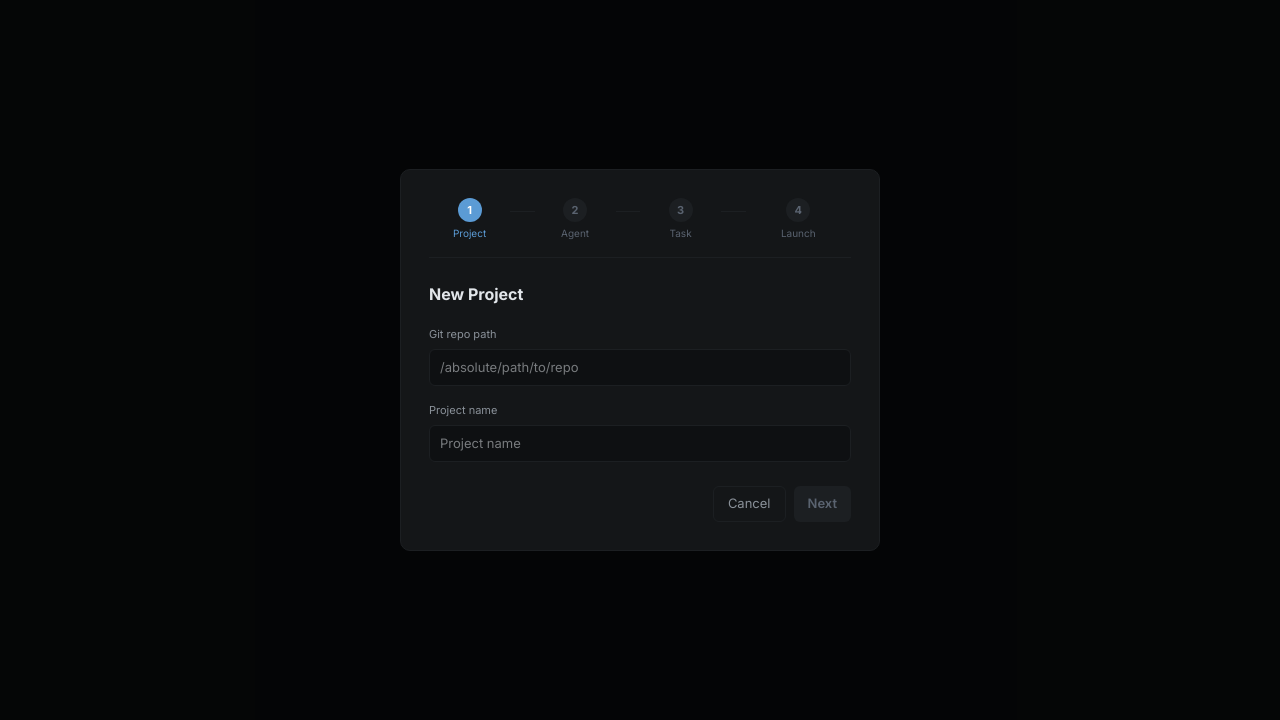
Test: NewProjectWizard › Set up later skips agent and advances to Step 4 (Launch)
The width and height of the screenshot is (1280, 720).
Type "/home/user/my-repo" into the field with placeholder "/absolute/path/to/repo" at (640, 368), box [429,349,851,386]
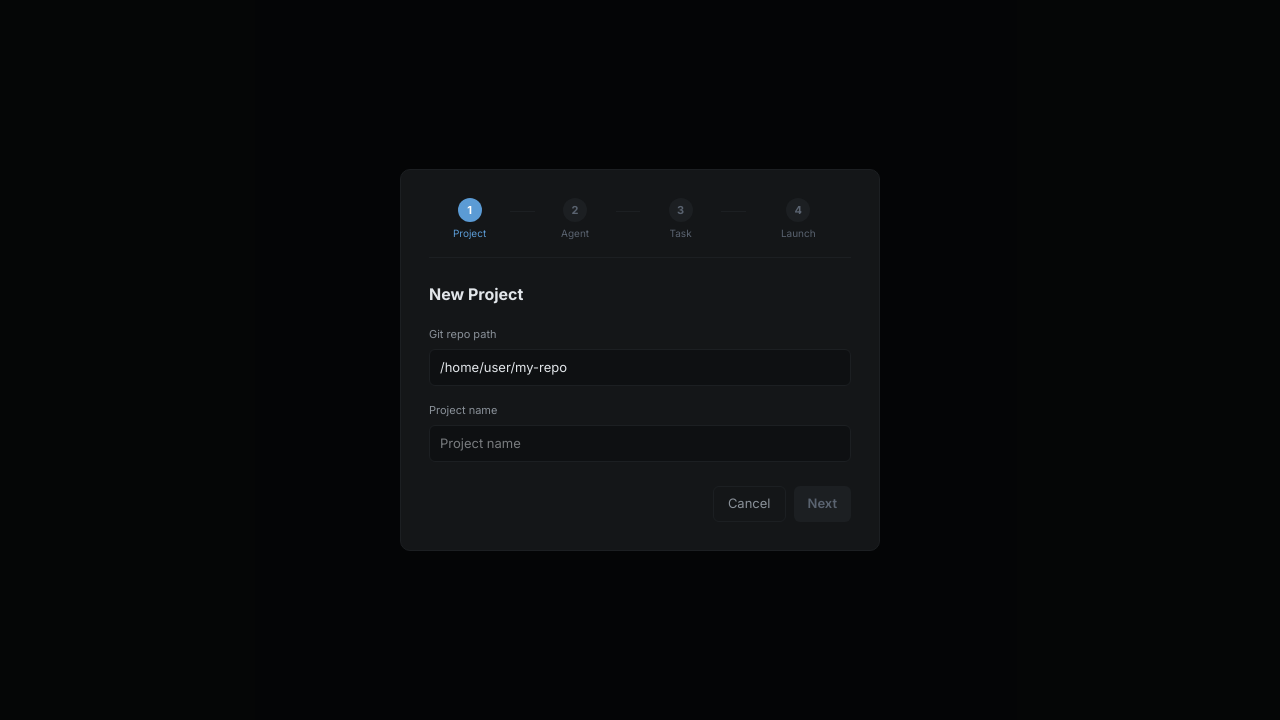
Leave the field with placeholder "/absolute/path/to/repo", box [429,349,851,386]
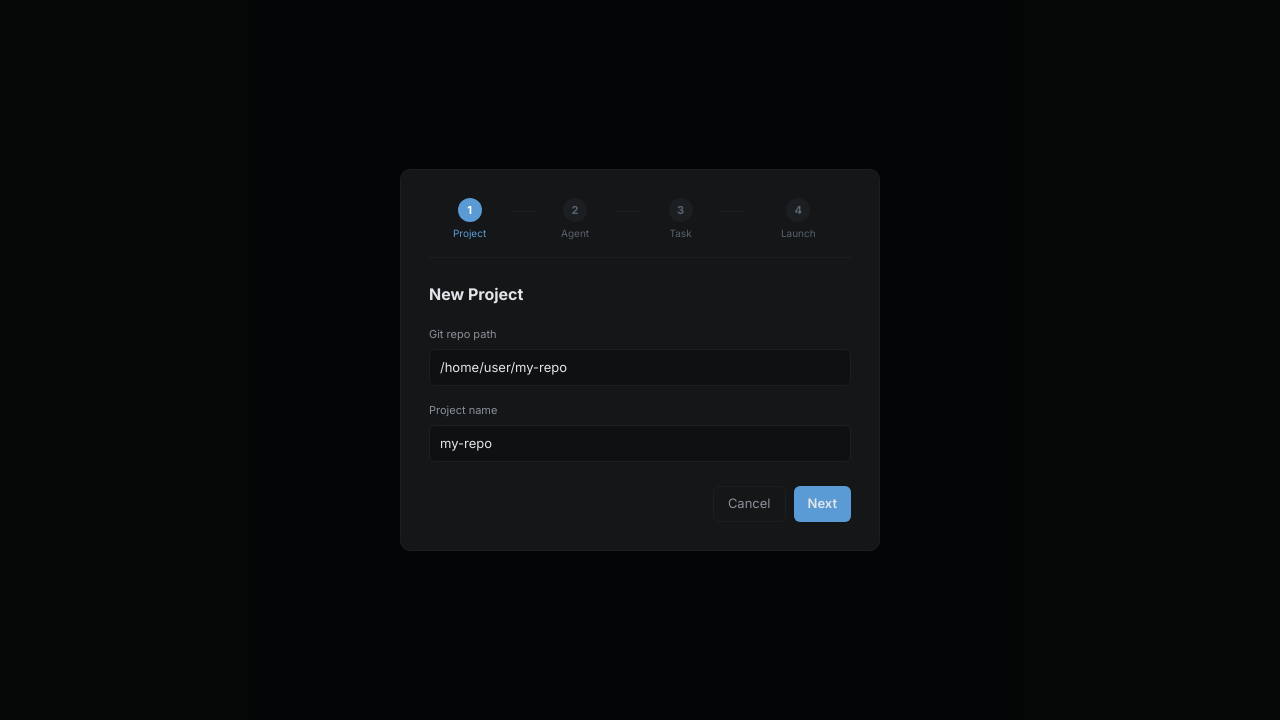
expect the button "Next" is enabled: met
Click the button "Next" at (822, 504), box [794,486,851,522]
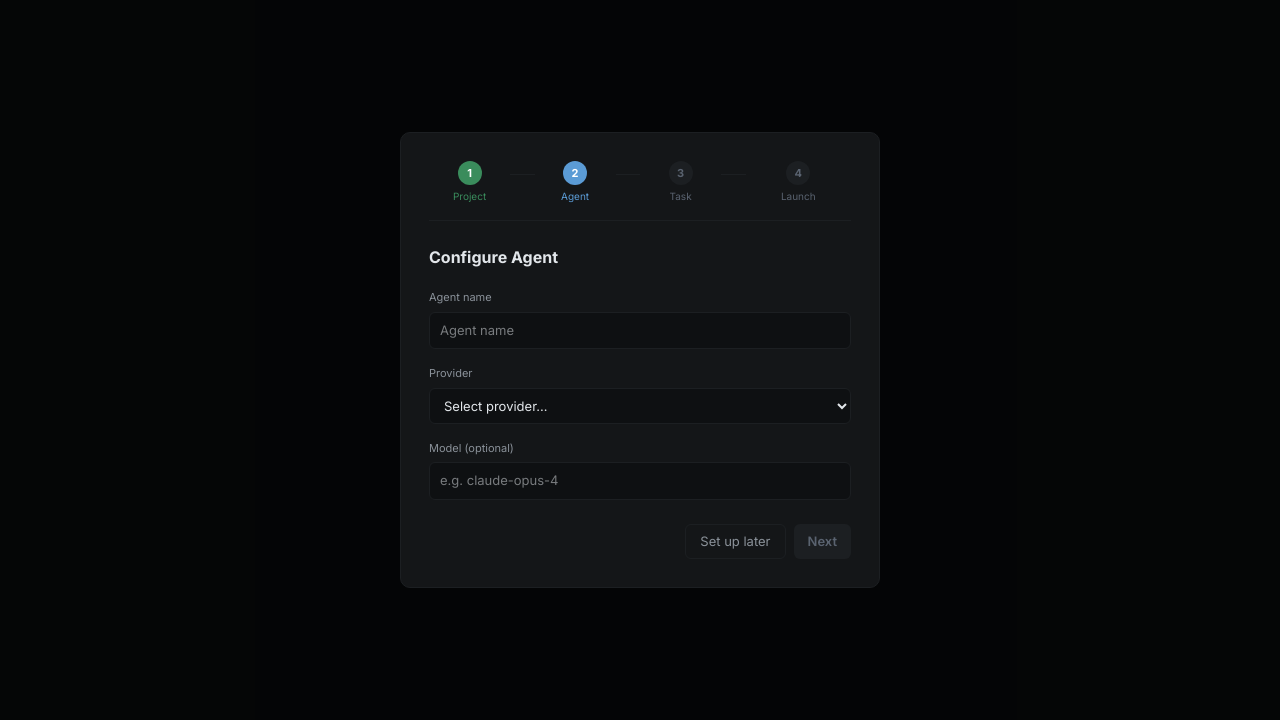
expect the button "Set up later" is shown: met
Click the button "Set up later" at (735, 541), box [685,524,786,559]
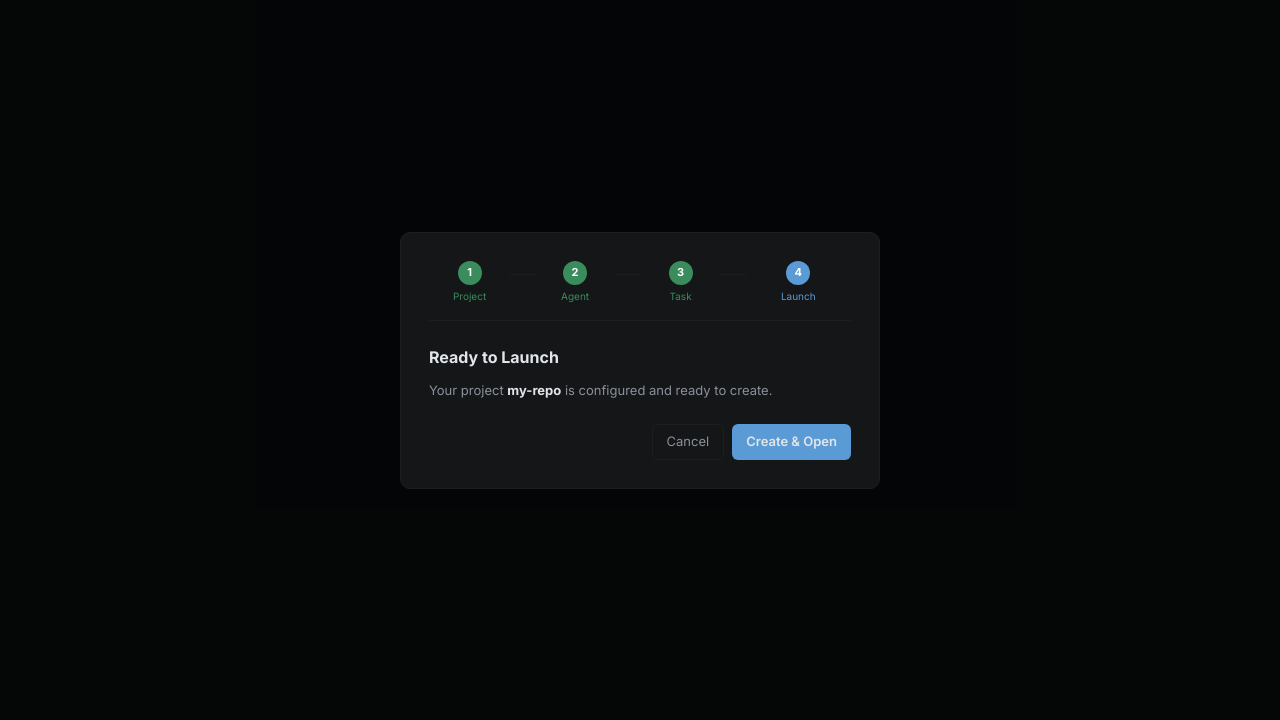
expect the button "Create & Open" is shown: met, box [732,424,851,460]
